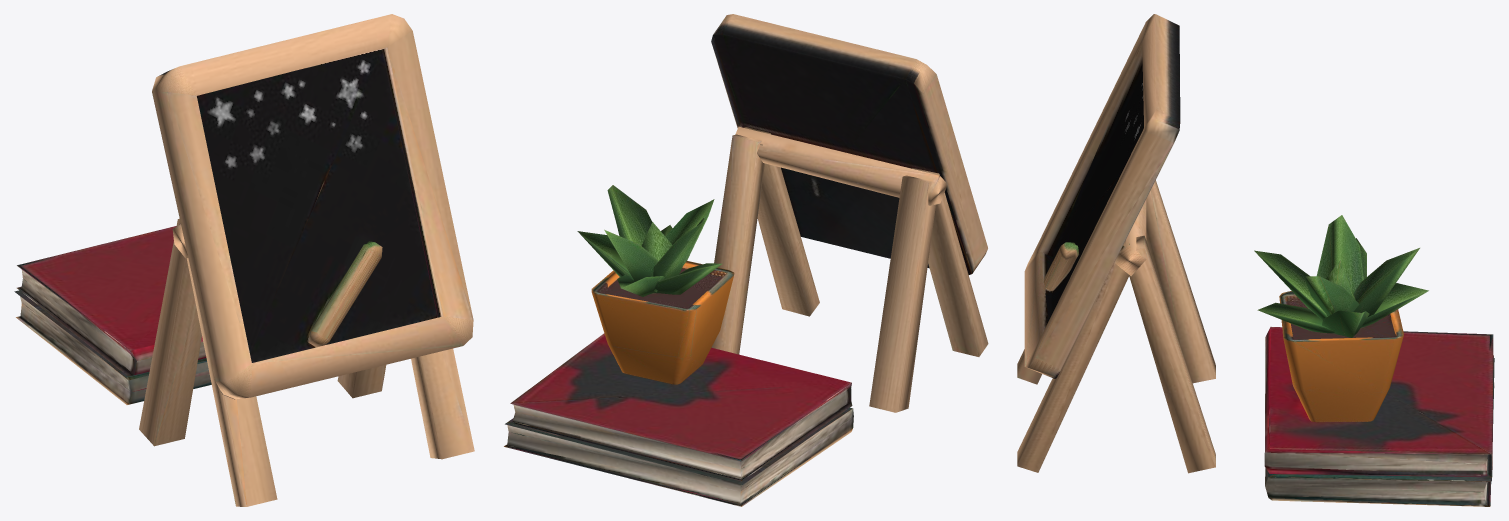
Rendered from course_easel.glb.
3 renders of one model, left to right at view 1: azimuth 30°, elevation 25°; view 2: azimuth 150°, elevation 25°; view 3: azimuth 270°, elevation 25°, orthographic. The views are drawn at different scales.
Bounding box in the file's own units: 1.41 × 1.67 × 2.
Materials: 1 (1 with a texture image).
